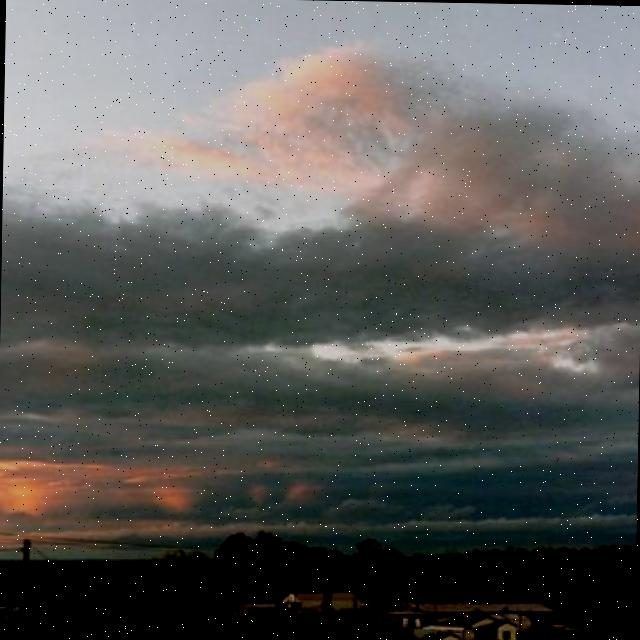Sc: (1, 55, 640, 489)
